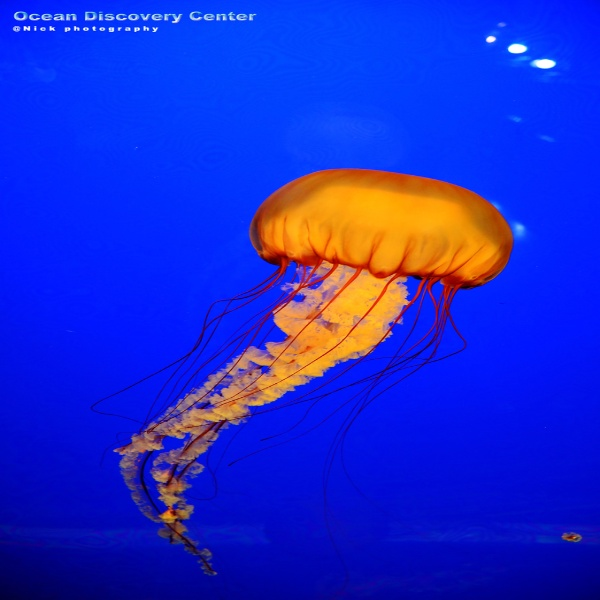Jellyfish: (88, 165, 516, 597)
